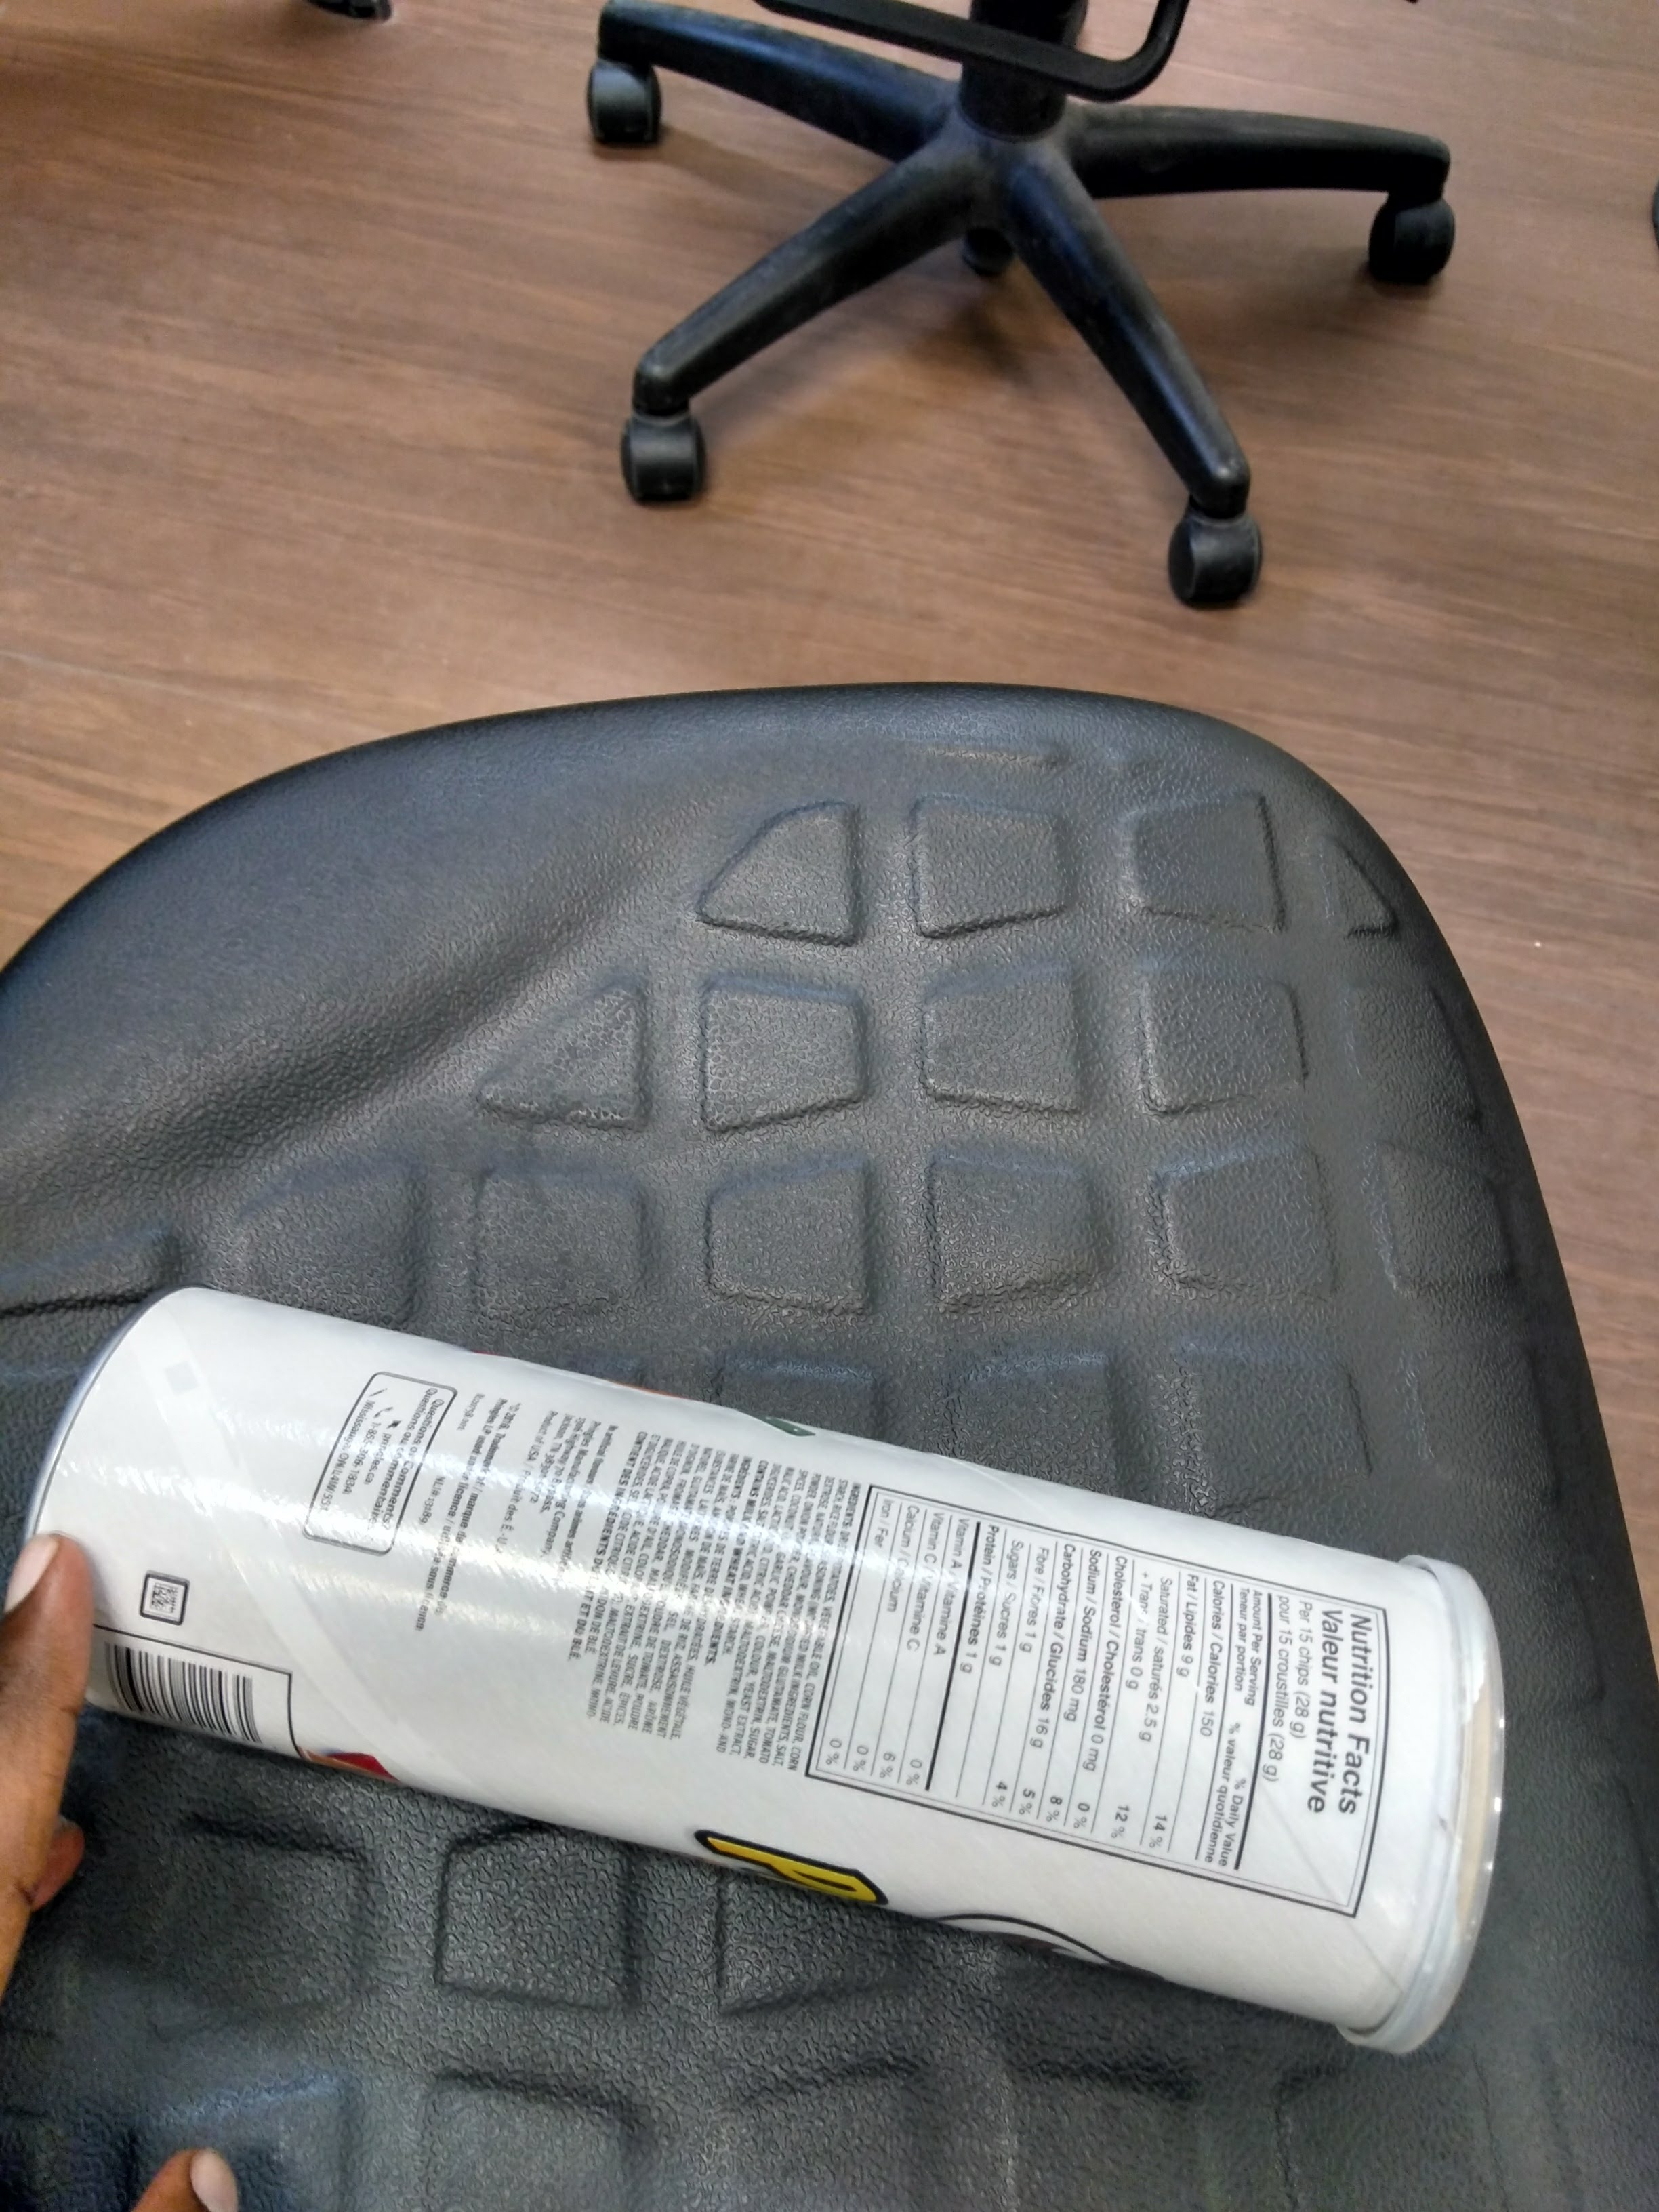pringles: (14, 1231, 1549, 2069)
